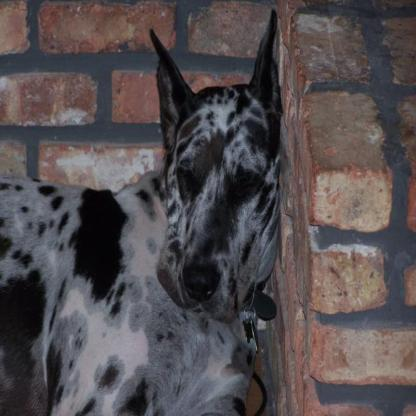Great_Dane: (0, 0, 282, 414)
